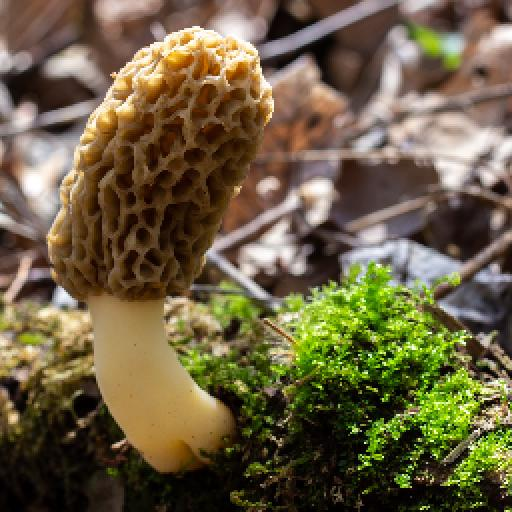mushrooms: (40, 26, 275, 462)
